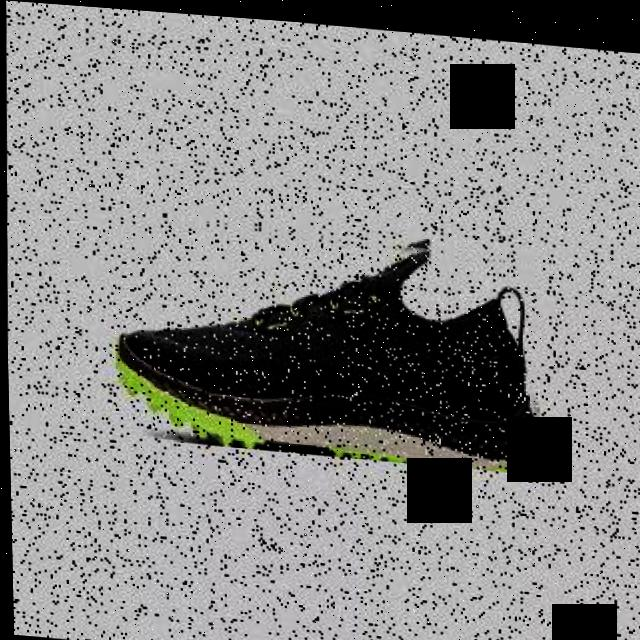shoe: (109, 207, 542, 467)
